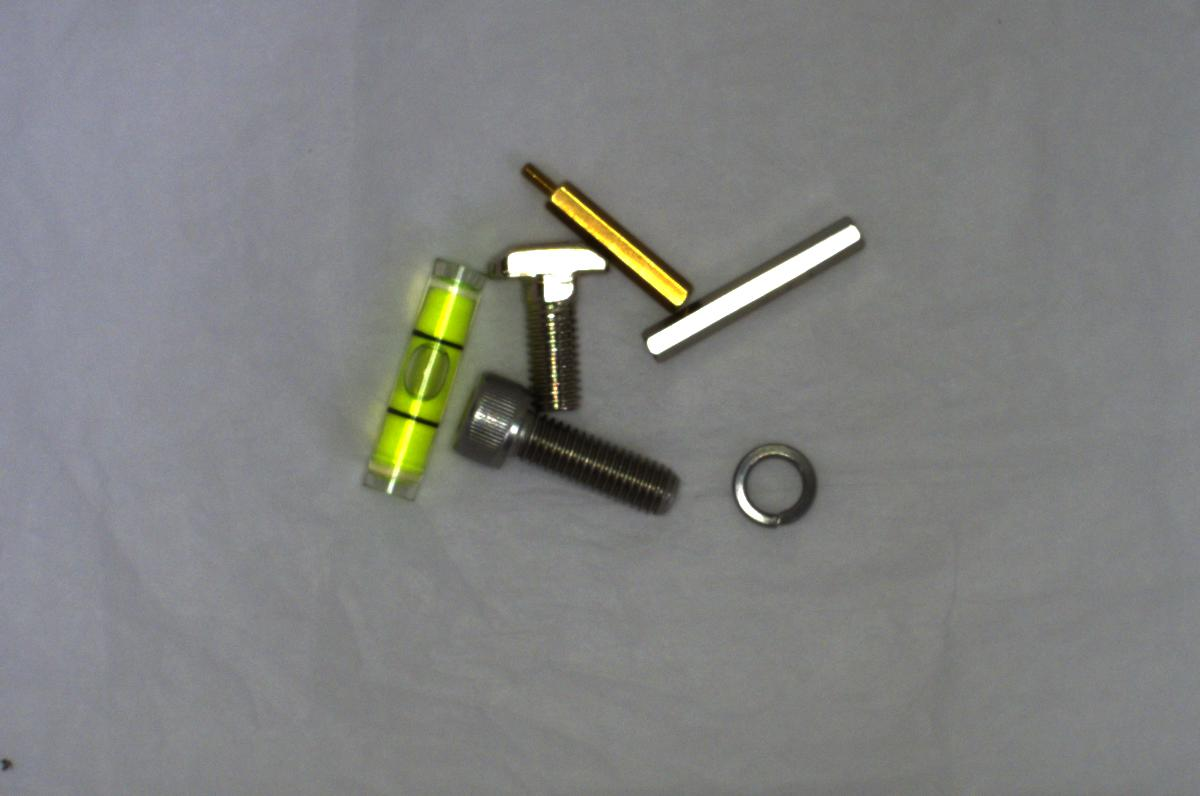Double hexagonal column: (628, 215, 873, 356)
Hexagon pillar: (514, 158, 695, 307)
Hexagon screw: (452, 376, 685, 523)
Horizontal bubble: (352, 242, 481, 503)
Spring washer: (718, 429, 825, 536)
T-shaped screw: (486, 238, 610, 408)
